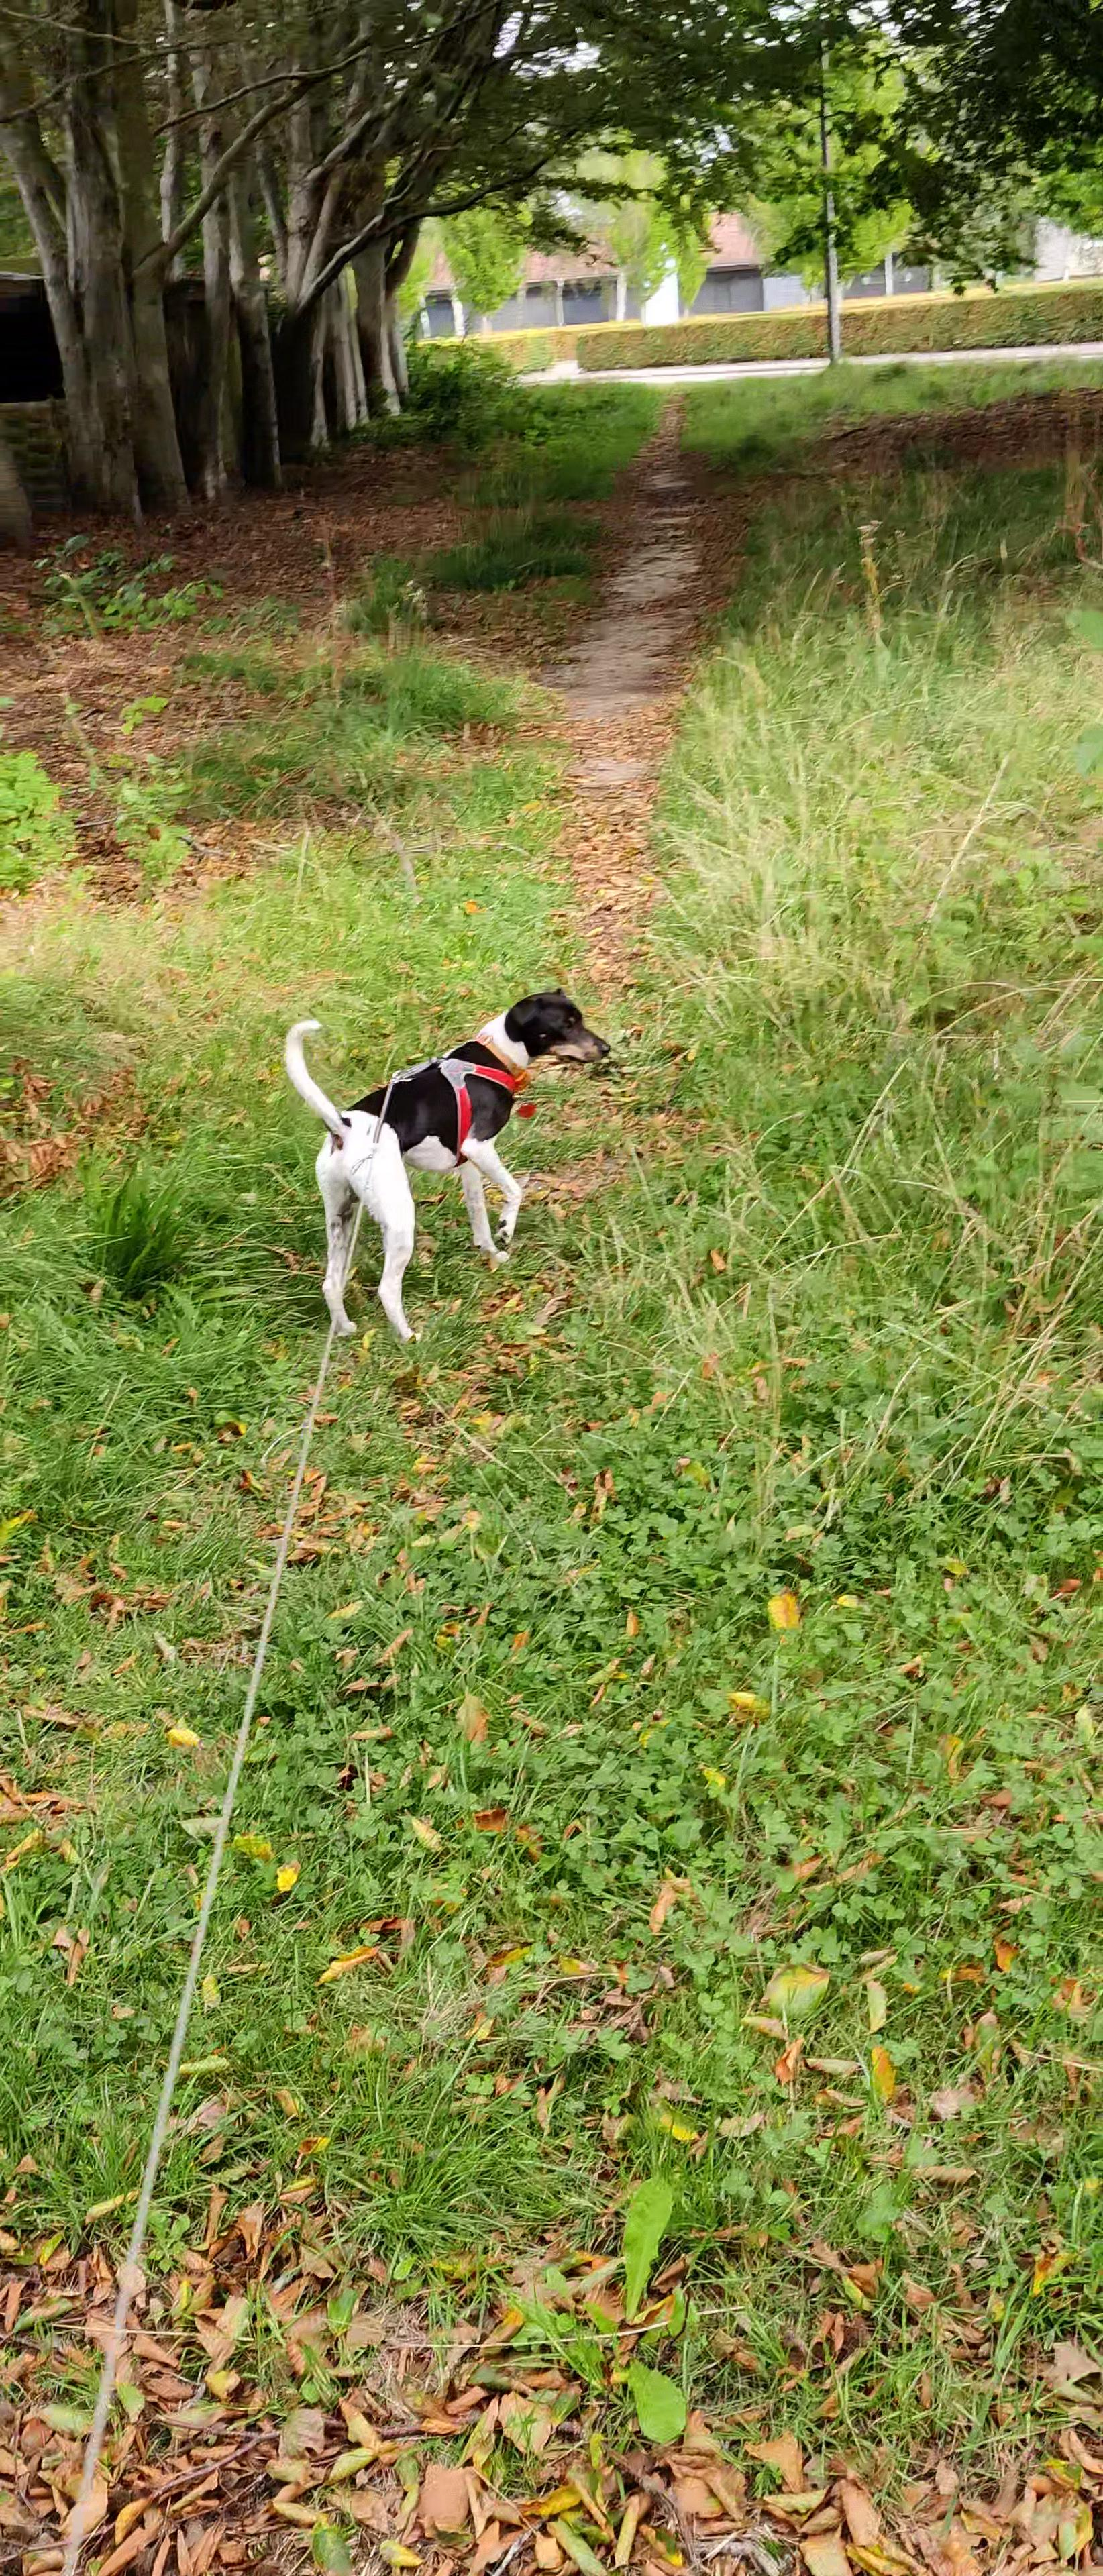Dog: (252, 963, 654, 1365)
